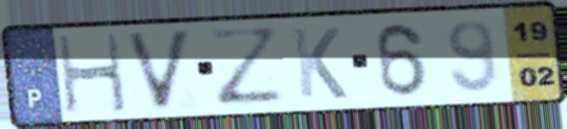6: (372, 20, 430, 100)
9: (445, 17, 500, 95)
H: (53, 30, 131, 117)
K: (289, 25, 351, 101)
V: (121, 27, 196, 114)
Z: (205, 25, 290, 110)
